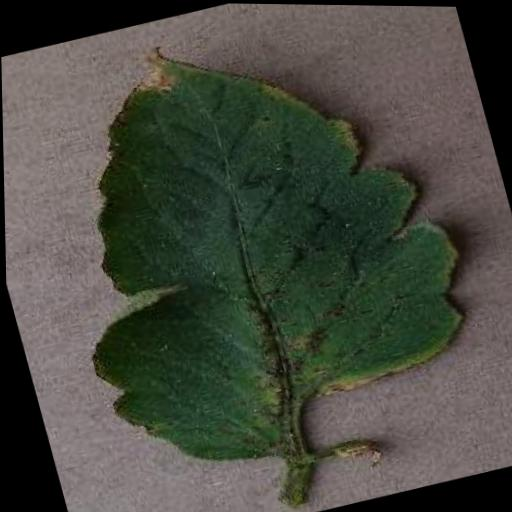Bacterial Spot: (10, 0, 502, 502)
